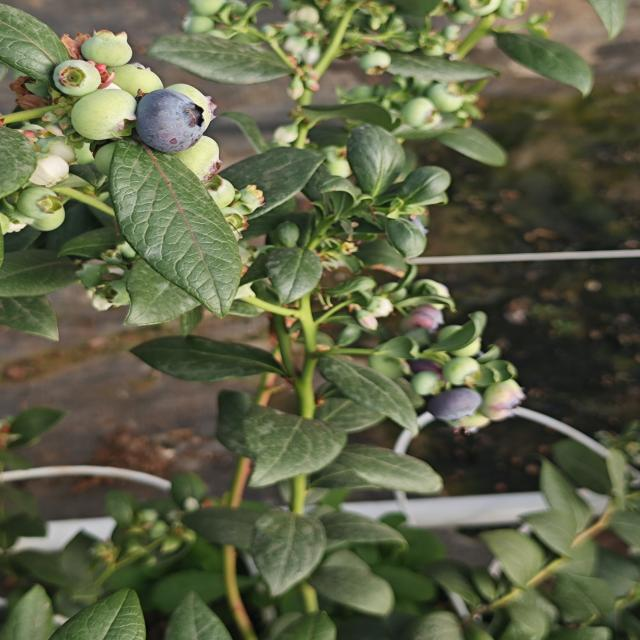ripe: (129, 88, 209, 156), (428, 386, 487, 425)
